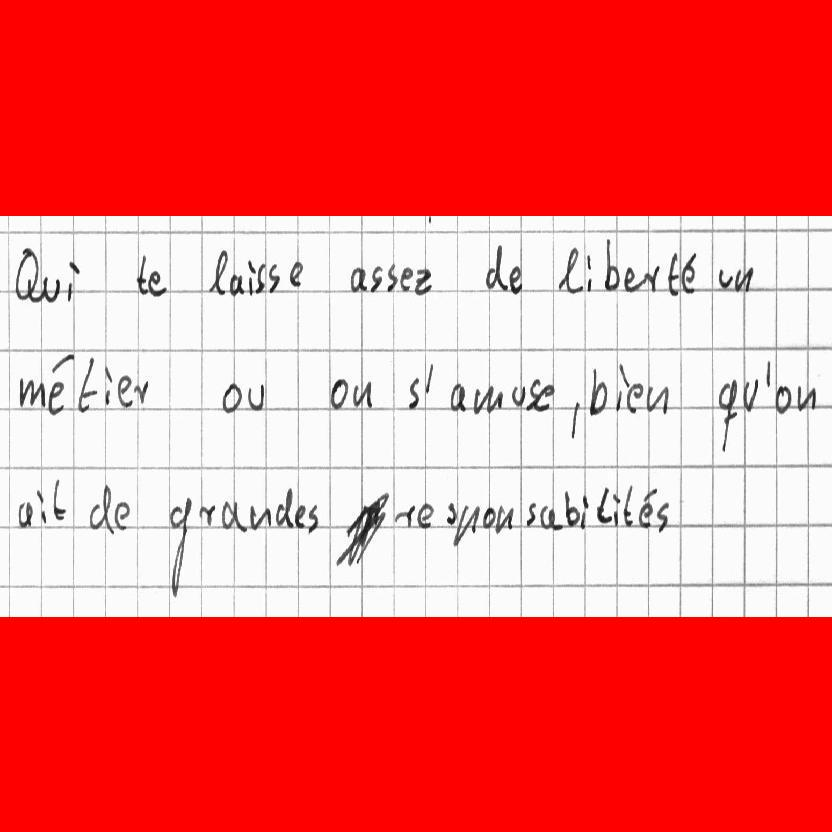Char: (335, 494, 389, 569), (166, 493, 190, 600), (715, 377, 738, 457), (45, 349, 72, 414), (12, 246, 35, 304), (87, 484, 113, 532), (556, 246, 581, 294), (454, 502, 479, 548), (484, 242, 507, 291), (77, 357, 97, 412), (600, 237, 619, 291), (207, 249, 228, 297), (473, 384, 504, 415), (588, 366, 607, 416), (18, 374, 41, 410), (274, 485, 293, 528), (51, 475, 67, 524), (614, 359, 628, 414), (327, 376, 349, 410), (681, 251, 698, 295), (645, 382, 668, 414), (221, 380, 242, 414), (220, 500, 242, 532), (794, 383, 817, 413), (65, 259, 81, 302), (568, 398, 584, 441), (563, 489, 580, 528), (596, 486, 613, 525), (39, 274, 61, 304), (247, 504, 270, 532), (448, 381, 468, 413), (535, 380, 555, 412), (352, 379, 374, 408), (245, 381, 266, 411), (623, 482, 637, 526), (135, 250, 148, 297), (413, 266, 433, 296), (497, 504, 517, 533), (773, 383, 790, 417), (742, 377, 758, 413), (734, 265, 754, 293), (349, 264, 368, 293), (666, 253, 679, 295), (114, 499, 130, 533), (118, 375, 134, 408), (394, 504, 415, 529), (416, 502, 435, 529), (643, 264, 662, 291), (655, 500, 670, 534), (35, 487, 48, 526), (540, 505, 560, 530), (406, 375, 421, 408), (306, 502, 321, 535), (288, 259, 305, 288), (510, 382, 528, 409), (629, 382, 645, 412), (623, 265, 640, 293), (525, 377, 539, 411), (16, 501, 34, 527), (508, 263, 523, 294), (398, 264, 413, 294), (149, 269, 165, 297), (103, 365, 114, 405), (369, 264, 383, 294), (266, 263, 280, 293), (135, 377, 149, 406), (385, 262, 398, 293), (229, 272, 245, 297), (423, 362, 435, 395), (483, 504, 497, 532), (246, 258, 256, 297), (638, 501, 653, 527), (199, 502, 215, 526), (584, 254, 594, 292), (718, 267, 733, 290), (295, 503, 306, 531), (582, 498, 592, 528), (255, 263, 265, 293), (524, 503, 537, 526), (764, 356, 773, 389), (445, 501, 456, 526)
